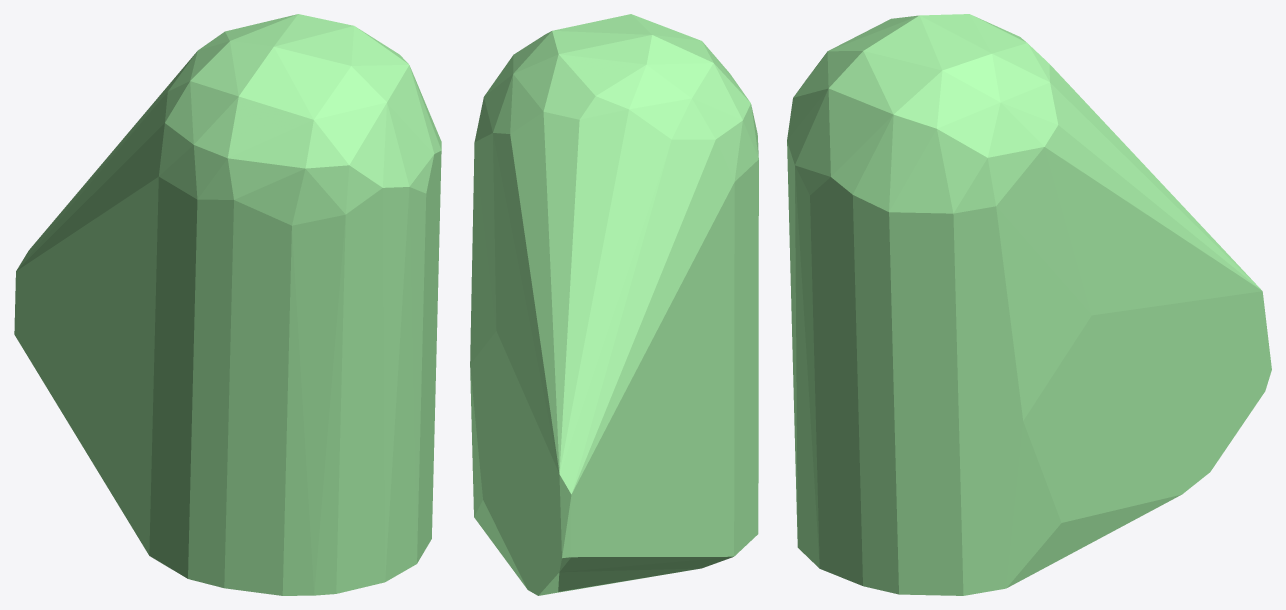
The model's file is palle_scrotali_buone_C_link2_respondable_coll_2.dae.
3 views of the same model, side by side, from view 1: azimuth 30°, elevation 25°; view 2: azimuth 150°, elevation 25°; view 3: azimuth 270°, elevation 25° (orthographic). The views are drawn at different scales.
Visible parts, largest first — view 1: Node_000002334E243BC0; view 2: Node_000002334E243BC0; view 3: Node_000002334E243BC0.
Part boxes in pixels (bbox=[...]): Node_000002334E243BC0: bbox=[14, 14, 441, 595]; Node_000002334E243BC0: bbox=[470, 14, 758, 595]; Node_000002334E243BC0: bbox=[787, 14, 1271, 595].
Size of the model in its own units: 0.1538 by 0.2819 by 0.2442.
